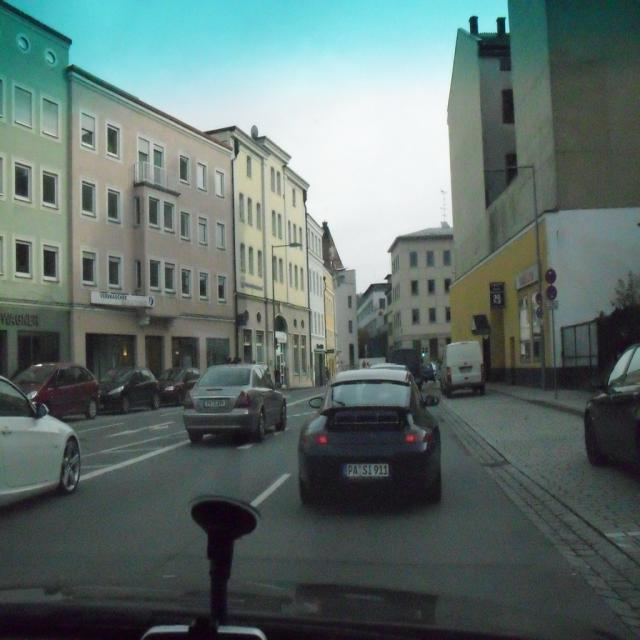car: (184, 360, 285, 437)
